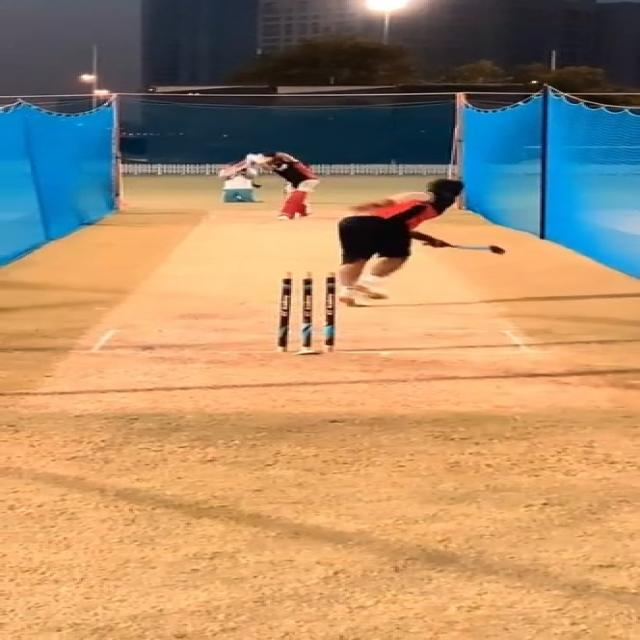batsman: (218, 149, 323, 221)
